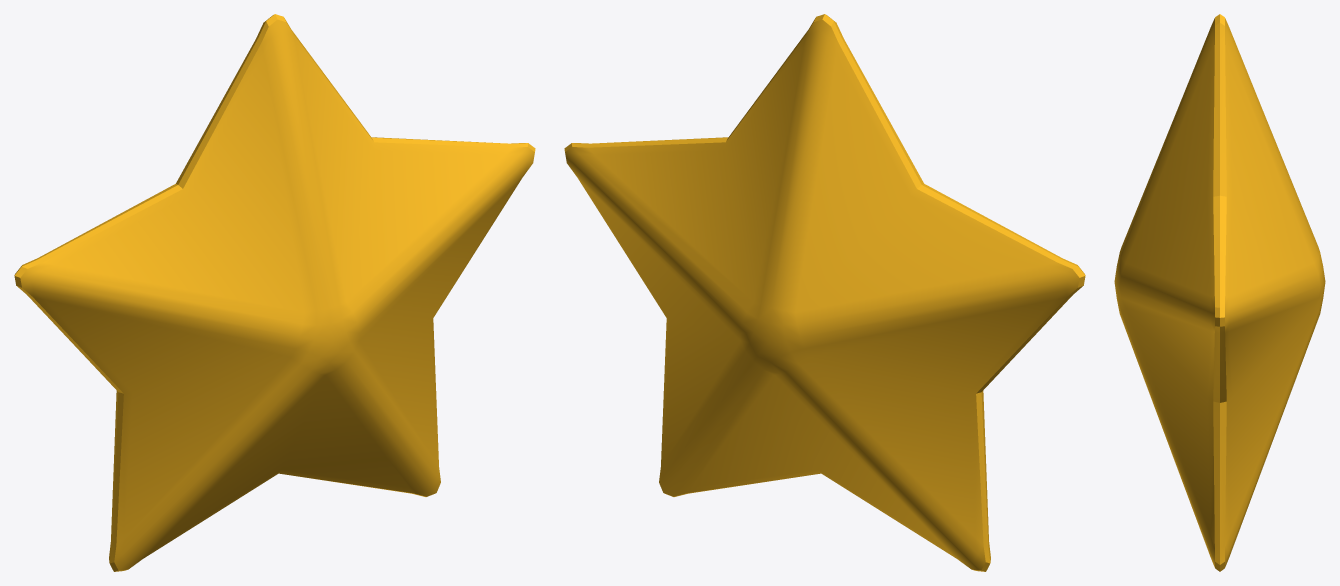
File: star.glb
3 views of the same model, side by side, from view 1: azimuth 30°, elevation 25°; view 2: azimuth 150°, elevation 25°; view 3: azimuth 270°, elevation 25° (orthographic). The views are drawn at different scales.
Visible parts, largest first — view 1: star; view 2: star; view 3: star.
Part boxes in pixels (<box>): star: <box>14,14,535,571</box>; star: <box>564,14,1085,571</box>; star: <box>1114,14,1325,571</box>.
Bounding box in the file's own units: 0.3703 × 0.3531 × 0.139.
